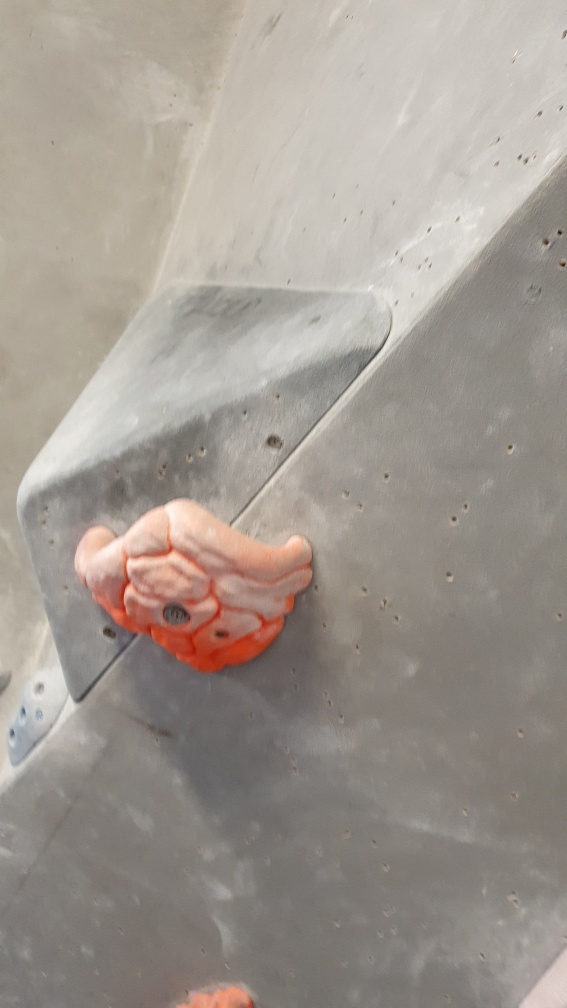Jug: (68, 495, 315, 675)
